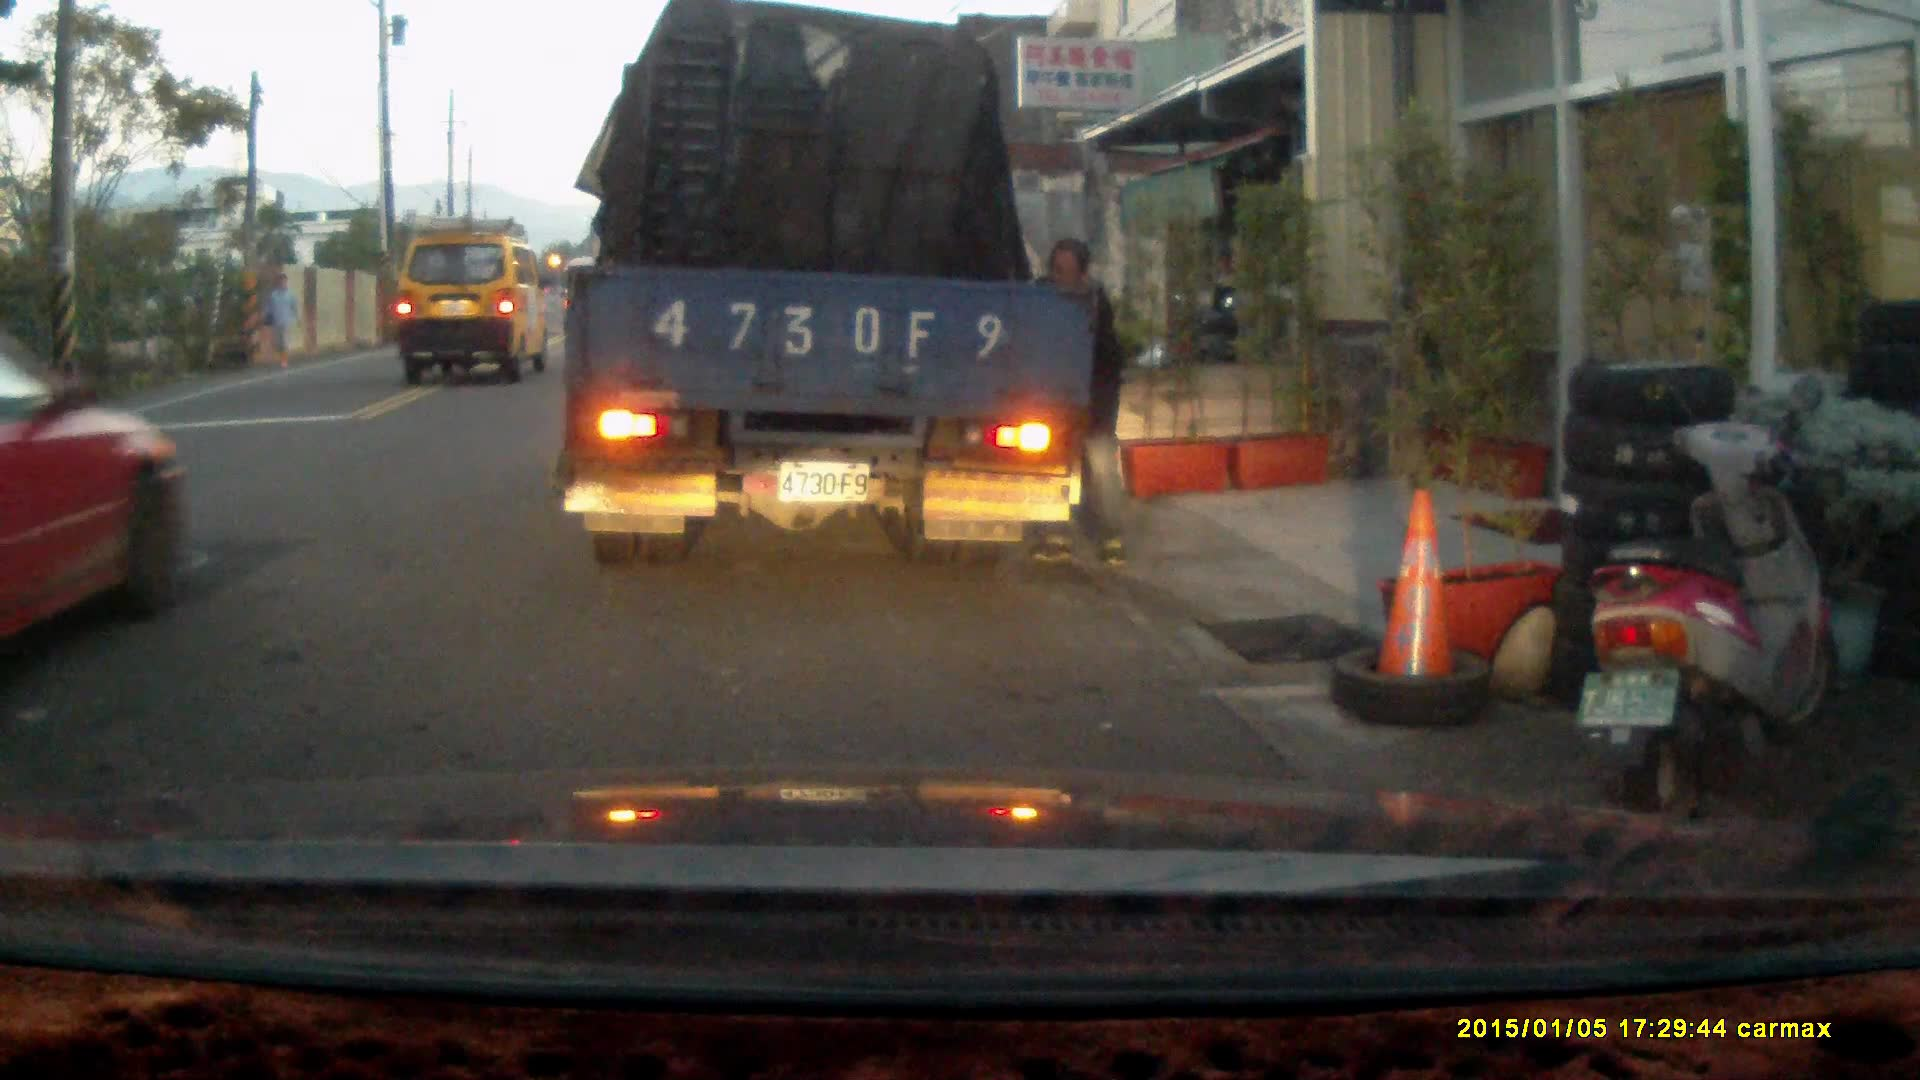pedestrian: (1021, 234, 1131, 573), (258, 276, 297, 369)
vehicle: (565, 23, 1095, 568), (1, 309, 186, 676), (394, 233, 556, 381)
